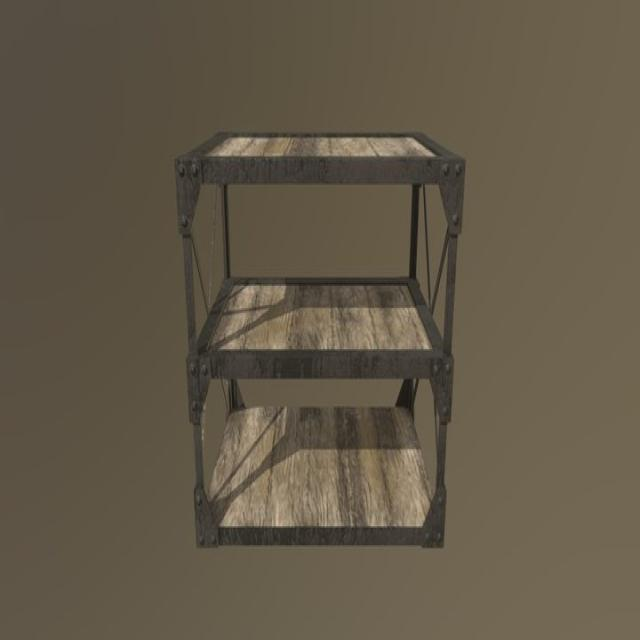table: (174, 129, 463, 547)
